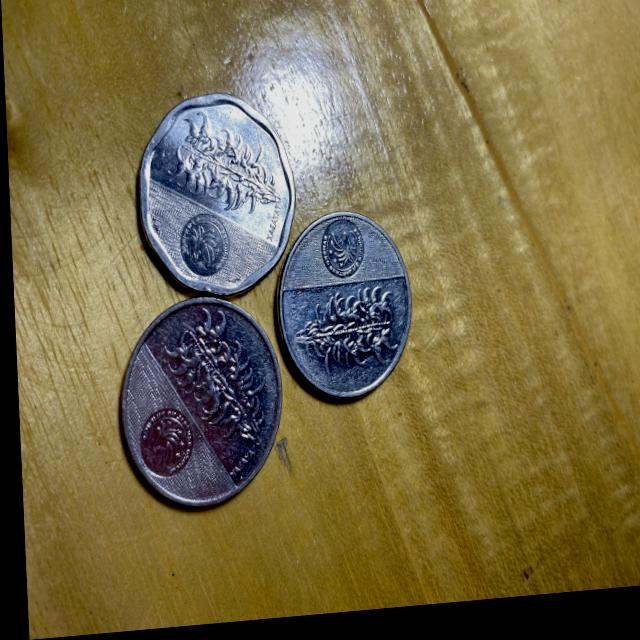5_New_Back: (171, 311, 262, 451), (169, 111, 274, 218), (287, 284, 396, 380)
